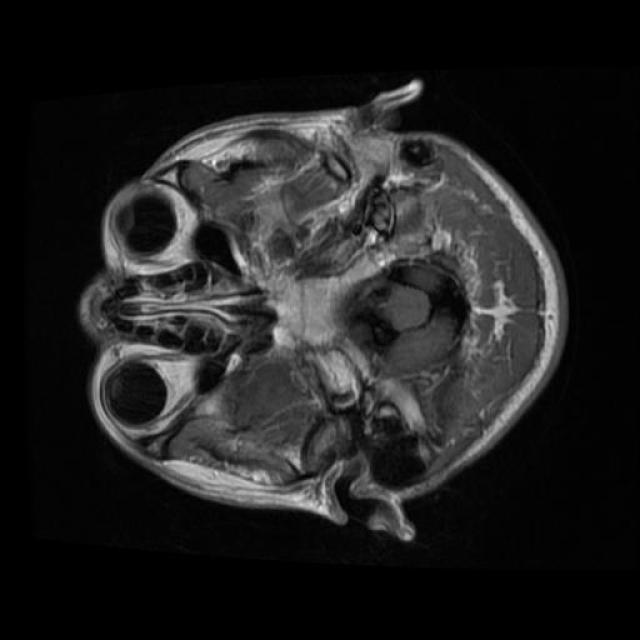Glioma: (178, 131, 393, 288), (346, 261, 465, 380)
